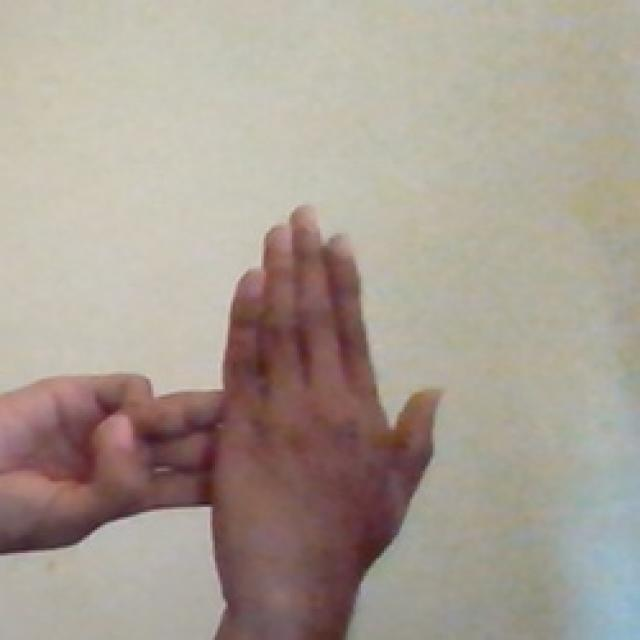Alphabet-M: (4, 179, 454, 640)
